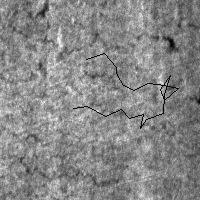crazing: (1, 21, 153, 76), (73, 53, 178, 128), (18, 130, 122, 186), (131, 17, 194, 106)
